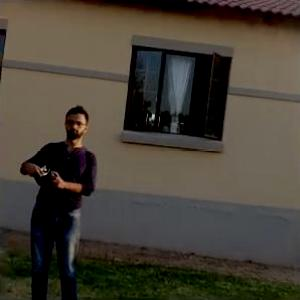follow: (13, 99, 102, 299)
